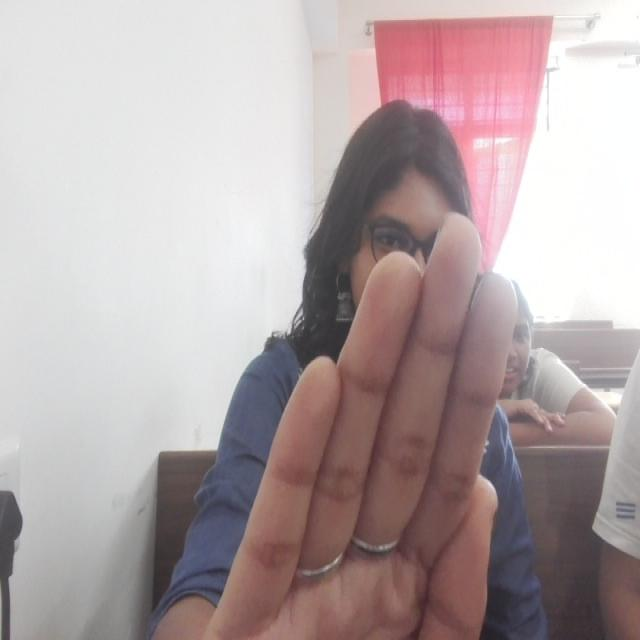hello: (210, 213, 519, 640)
